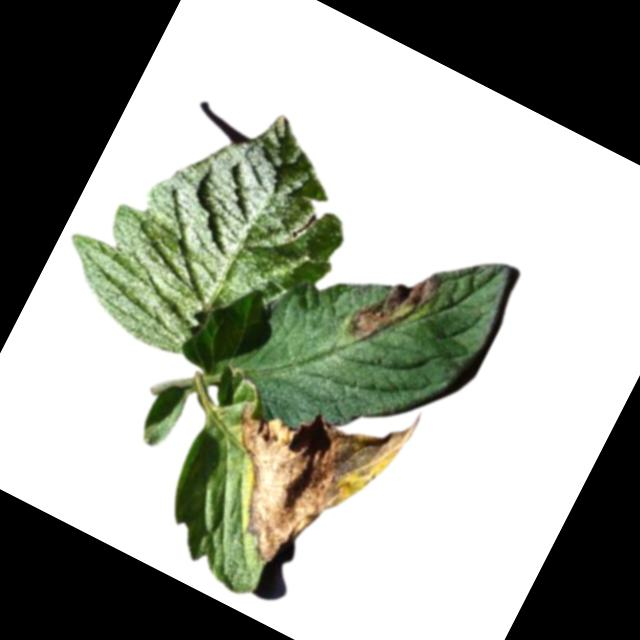Late_blight: (183, 340, 426, 599), (342, 250, 445, 365)
